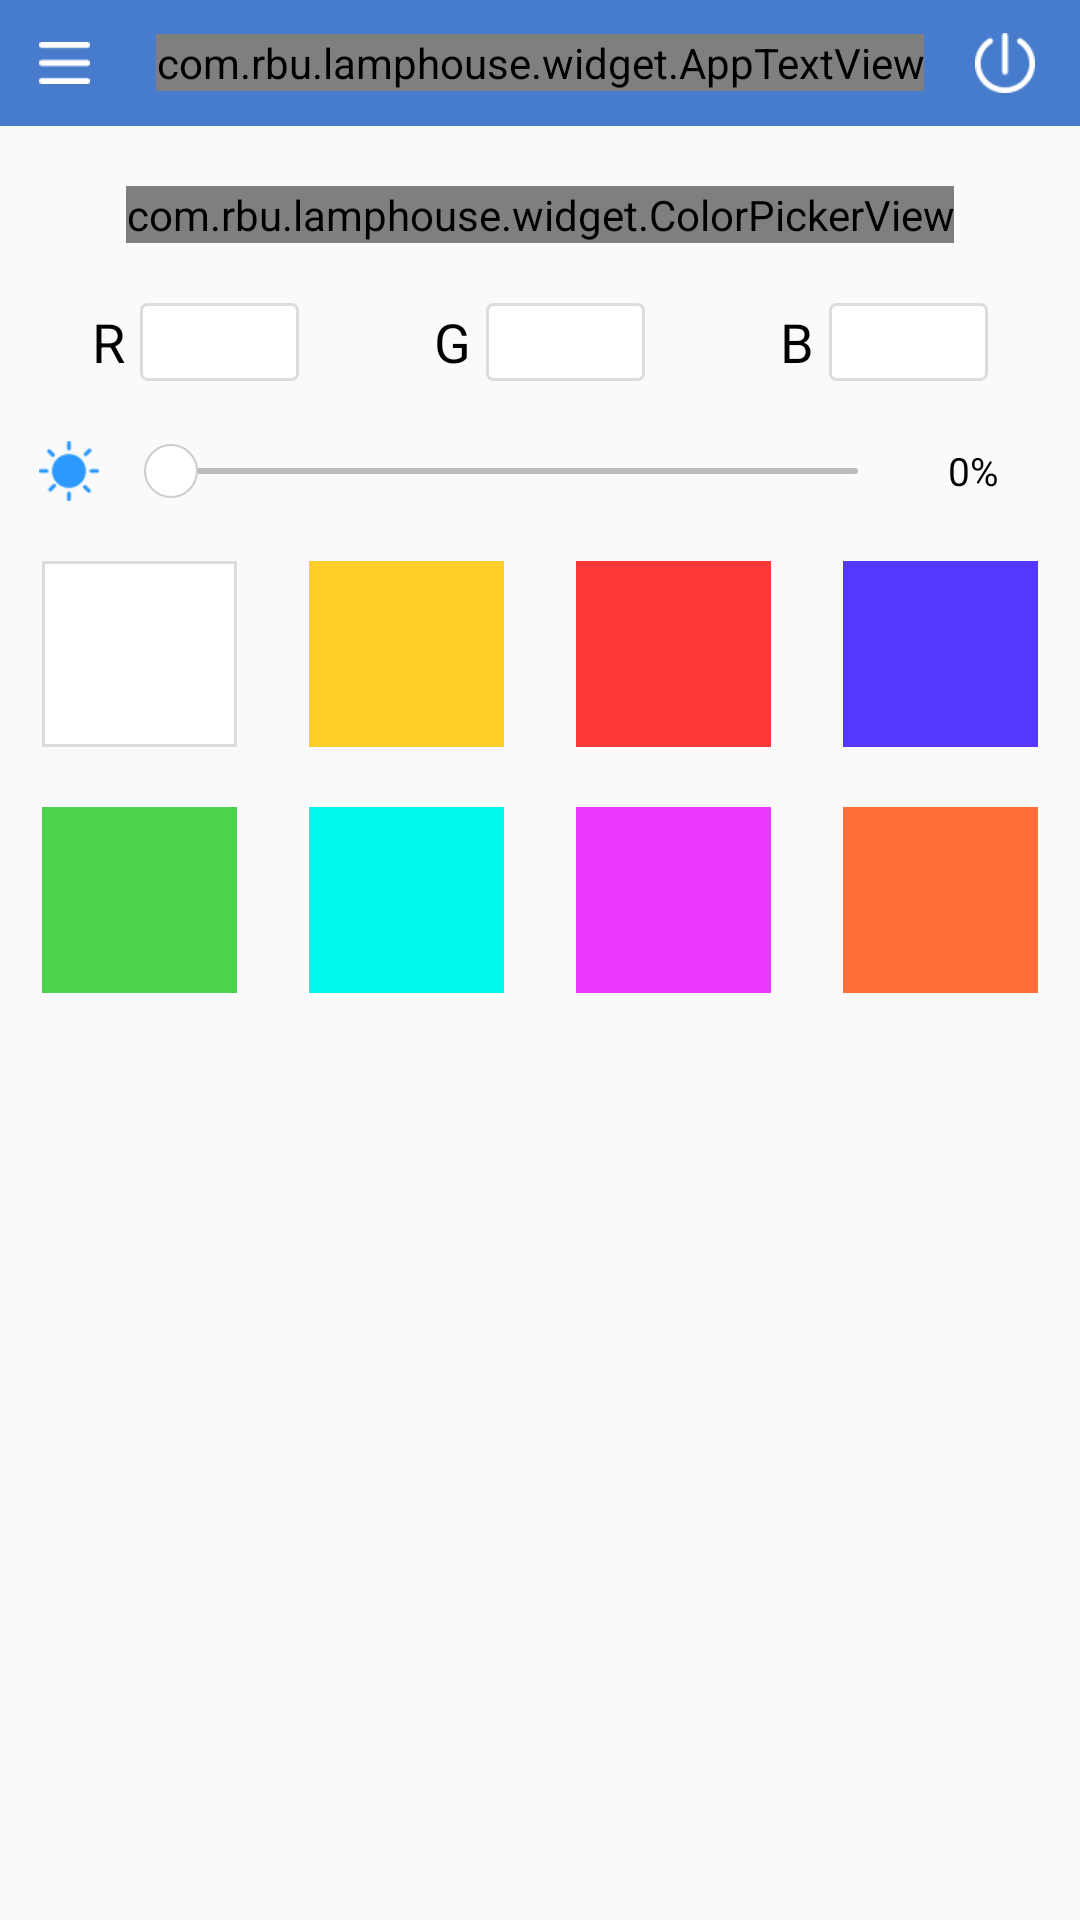

Where to tap for icons on this 1080px x 1920px app screen, as point (x, y):
gengduo: point (64, 63)
kaiguan: point (1005, 63)
liangdu: point (69, 471)
